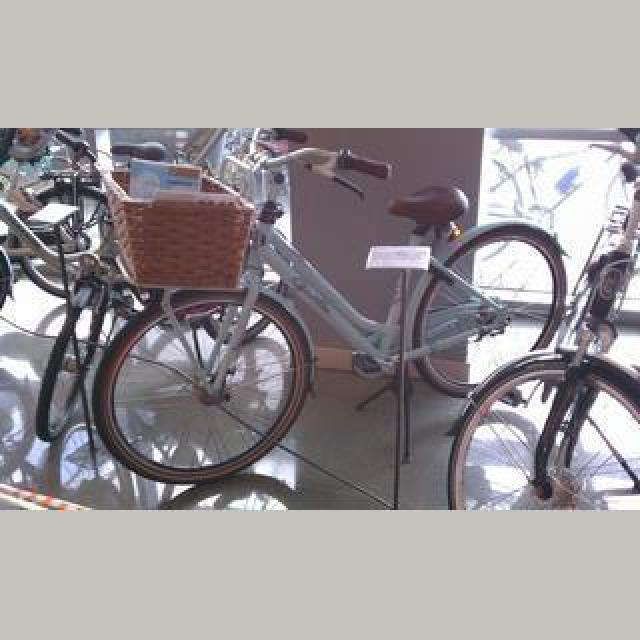Person: (84, 128, 568, 490), (444, 142, 640, 510)
